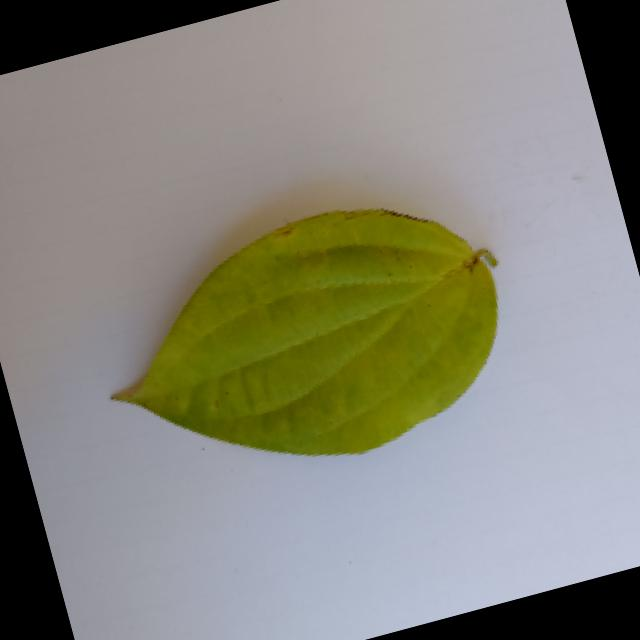slow-decline: (70, 156, 541, 509)
